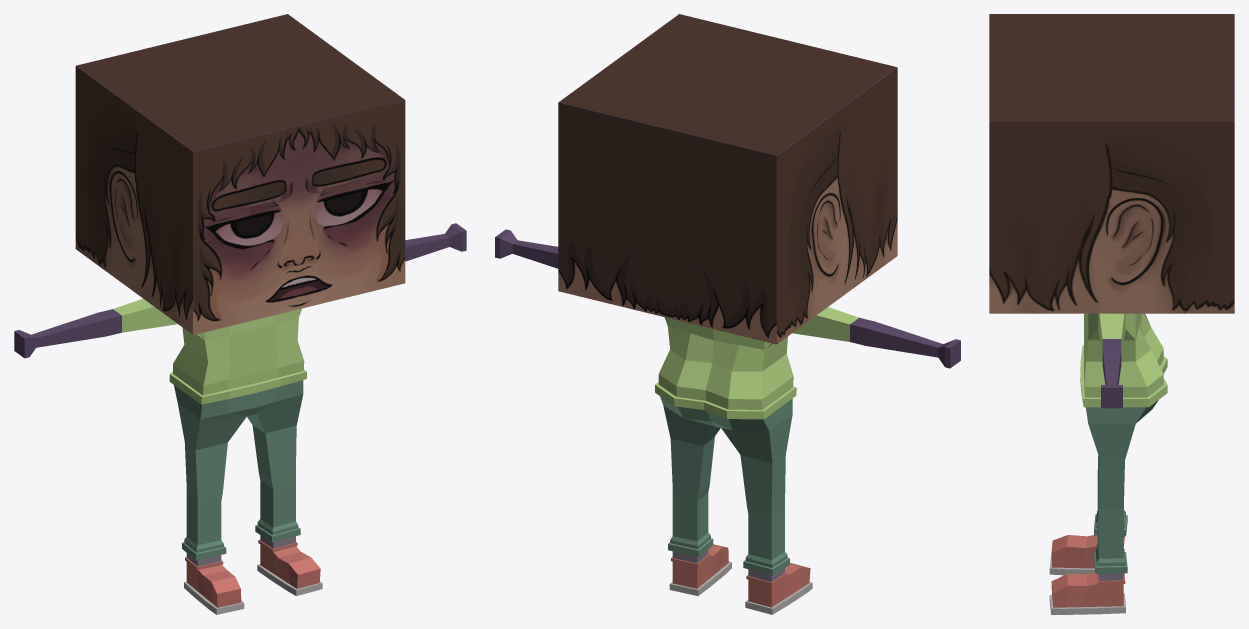
Rendered from Cube_Person_Thing.glb.
The picture shows the model from 3 angles, left to right: view 1: azimuth 30°, elevation 25°; view 2: azimuth 150°, elevation 25°; view 3: azimuth 270°, elevation 25°; orthographic projection. The views are drawn at different scales.
Parts seen in each view (by area): view 1: HEAD_BOSS_NORMAL, LEG, TORSO, ARM, SHOES; view 2: HEAD_BOSS_NORMAL, LEG, TORSO, ARM, SHOES; view 3: HEAD_BOSS_NORMAL, LEG, TORSO, SHOES, ARM.
Part boxes in pixels (<box>): HEAD_BOSS_NORMAL: <box>75,14,405,334</box>; LEG: <box>174,380,303,566</box>; TORSO: <box>169,308,306,404</box>; ARM: <box>14,223,466,358</box>; SHOES: <box>184,540,322,614</box>; HEAD_BOSS_NORMAL: <box>558,14,897,344</box>; LEG: <box>660,396,792,581</box>; TORSO: <box>655,317,796,419</box>; ARM: <box>495,229,960,368</box>; SHOES: <box>669,544,812,614</box>; HEAD_BOSS_NORMAL: <box>989,14,1234,313</box>; LEG: <box>1085,400,1158,580</box>; TORSO: <box>1080,313,1167,407</box>; SHOES: <box>1049,535,1125,614</box>; ARM: <box>1098,313,1125,408</box>.
Bounding box in the file's own units: 1.84 × 1.98 × 0.847.
6 materials, 6 textured.
